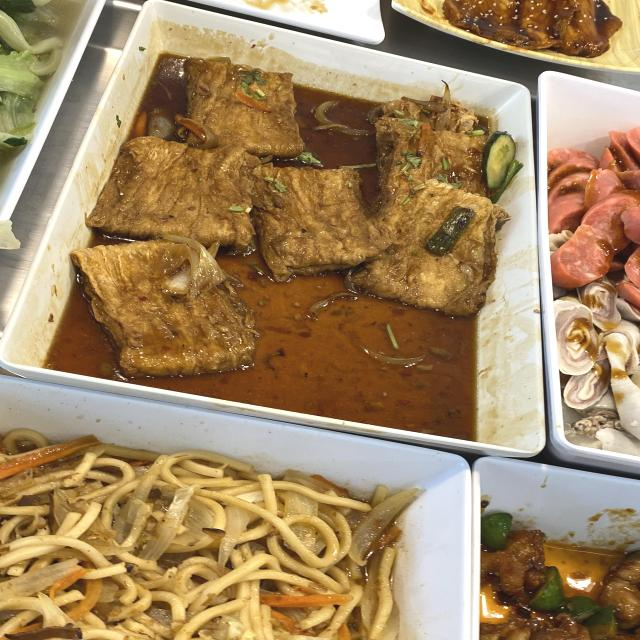bean bag: (121, 130, 475, 333)
